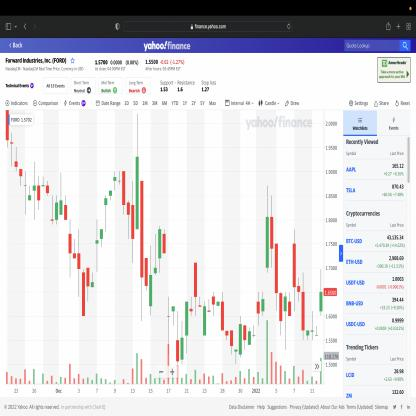Bearish: 3 Black Crows: (270, 193, 284, 339)
Bullish: Hammer: (230, 314, 242, 367)
